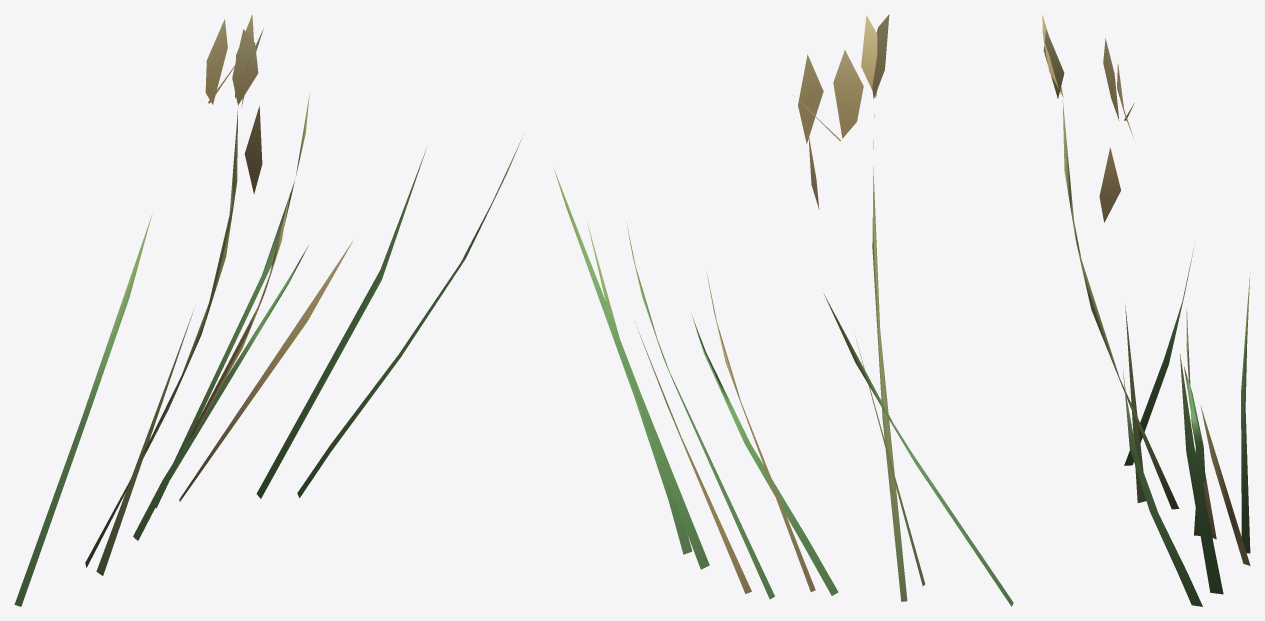
Rendered from BentWildGrass_LOD2.glb.
3 views of the same model, side by side, from view 1: azimuth 30°, elevation 25°; view 2: azimuth 150°, elevation 25°; view 3: azimuth 270°, elevation 25° (orthographic). The views are drawn at different scales.
Parts seen in each view (by area): view 1: BentWildGrass_LOD2; view 2: BentWildGrass_LOD2; view 3: BentWildGrass_LOD2.
Part boxes in pixels (x1,y1,x2,y2): BentWildGrass_LOD2: (14,15,523,606); BentWildGrass_LOD2: (554,14,1013,606); BentWildGrass_LOD2: (1042,15,1250,606).
Size of the model in its own units: 0.4691 by 0.5046 by 0.1777.
